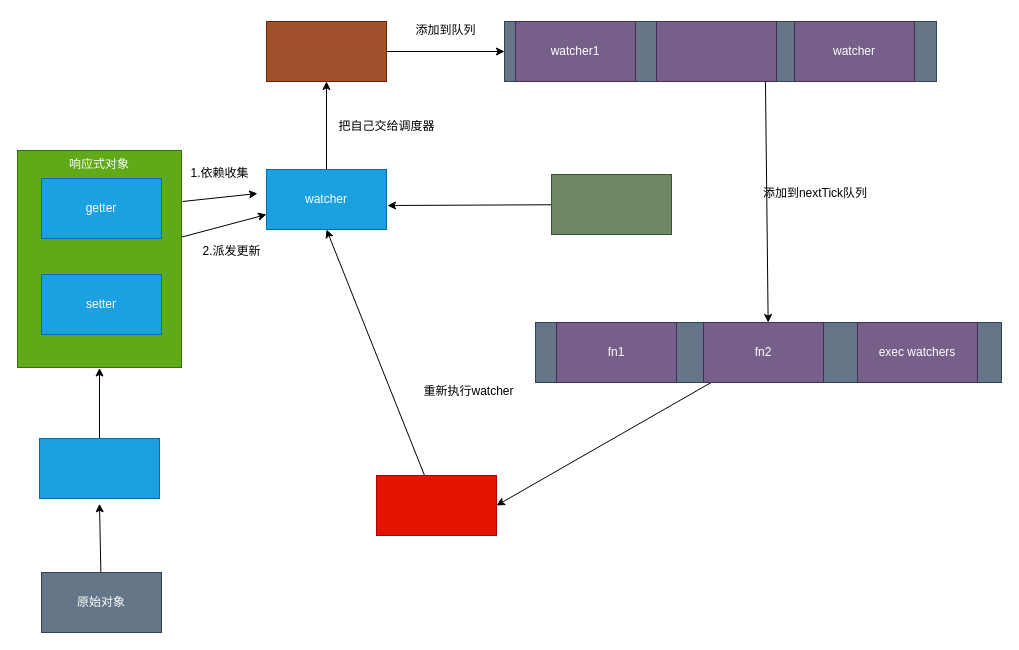
Some shapes in this 1019 by 650 pixel diagram are drawn without their labels. The centre of each missing label's shape, as x and y in pixels:
Observer: the point at 99,468
render函数: the point at 611,204
schedluar：调度器: the point at 326,51
watcher2: the point at 716,51
异步执行: the point at 436,505
